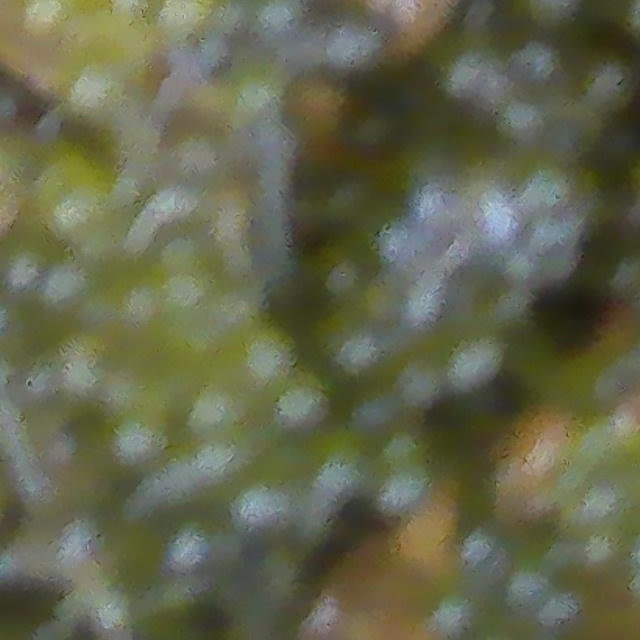SeaGrape: (27, 144, 124, 244), (25, 0, 102, 52)
